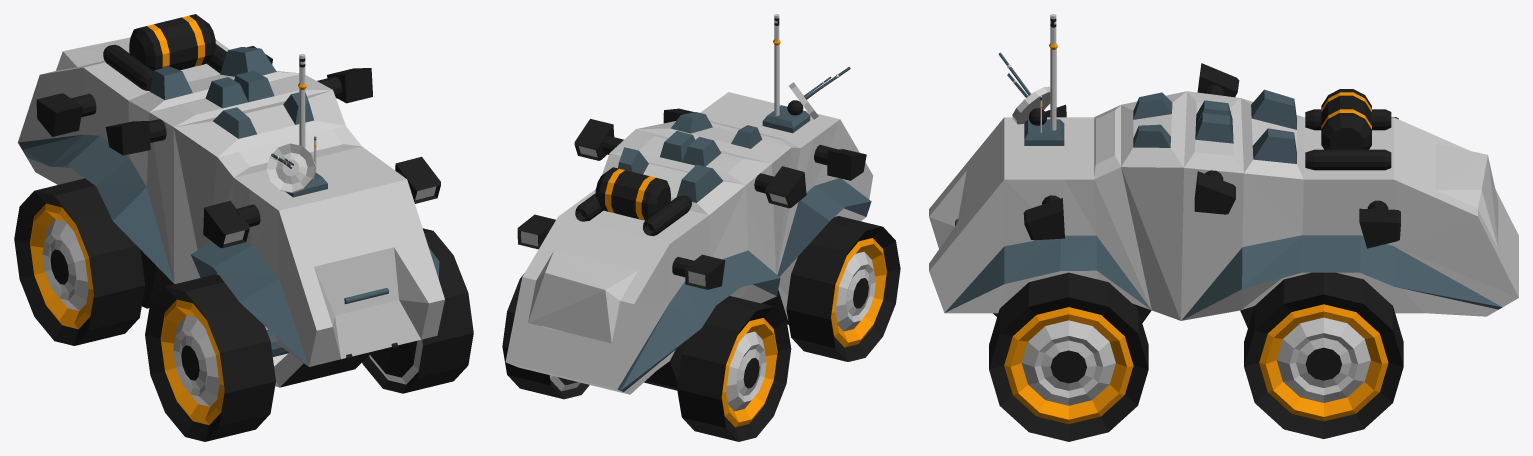
Rendered from model-triangulated.obj.
3 renders of one model, left to right at view 1: azimuth 30°, elevation 25°; view 2: azimuth 150°, elevation 25°; view 3: azimuth 270°, elevation 25°, orthographic. The views are drawn at different scales.
Visible parts, largest first — view 1: group1612320968, group1122719341, group1357657435, group1128767216, group220664131, group1327962069, group2057187779, group380763511, group1190649678, group675658974, group1828669250, group2050722990 (+2 smaller); view 2: group1612320968, group1122719341, group1357657435, group1981983796, group220664131, group747399354, group675658974, group380763511, group2050722990, group2057187779, group1828669250, group1724621185 (+3 smaller); view 3: group1612320968, group1128767216, group747399354, group1981983796, group220664131, group1250980965, group2050722990, group1724621185, group1190649678, group1804931003, group675658974, group108472507 (+2 smaller).
Part boxes in pixels (x1,y1,x2,y2): group1612320968: (18, 39, 444, 387); group1122719341: (145, 274, 275, 441); group1357657435: (14, 178, 145, 345); group1128767216: (362, 228, 473, 393); group220664131: (129, 14, 215, 70); group1327962069: (266, 143, 316, 193); group2057187779: (203, 200, 249, 248); group380763511: (36, 93, 82, 136); group1190649678: (395, 156, 440, 203); group675658974: (105, 121, 150, 155); group1828669250: (103, 44, 153, 90); group2050722990: (327, 68, 372, 103); group1612320968: (505, 92, 873, 394); group1122719341: (786, 216, 900, 361); group1357657435: (677, 296, 791, 441); group1981983796: (528, 250, 637, 343); group220664131: (595, 167, 670, 220); group747399354: (502, 273, 589, 399); group675658974: (765, 166, 806, 208); group380763511: (685, 254, 725, 289); group2050722990: (574, 119, 614, 160); group2057187779: (827, 149, 866, 180); group1828669250: (643, 195, 691, 236); group1724621185: (517, 214, 555, 249); group1612320968: (929, 89, 1518, 327); group1128767216: (989, 272, 1148, 441); group747399354: (1244, 272, 1403, 438); group1981983796: (1435, 143, 1498, 248); group220664131: (1321, 89, 1371, 149); group1250980965: (1305, 149, 1391, 170); group2050722990: (1194, 171, 1235, 214); group1724621185: (1359, 208, 1400, 248); group1190649678: (1023, 198, 1064, 240); group1804931003: (1024, 119, 1064, 145); group675658974: (1197, 63, 1239, 97); group108472507: (1049, 14, 1057, 130).
Size of the model in its own units: 0.95 by 1.29 by 1.92.
